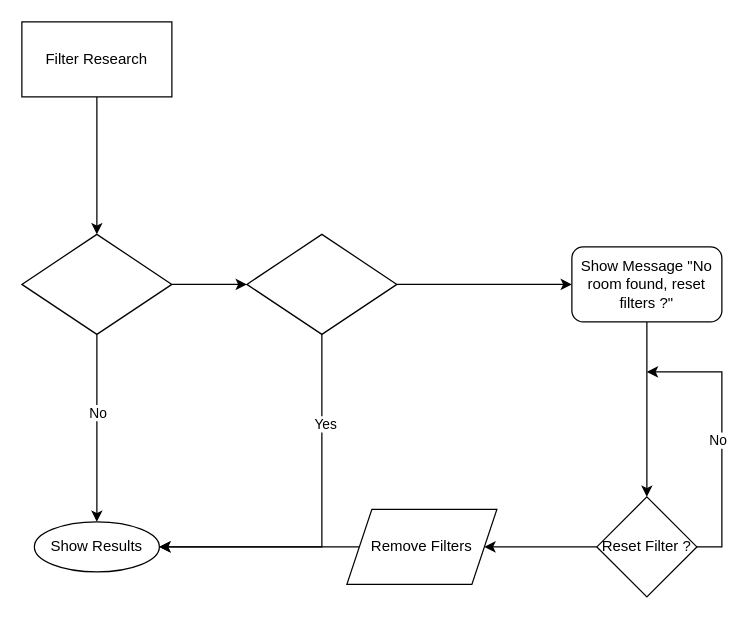
Image size: 754x619. Some labels were removed from this diagram. The box of each missing label's shape, as (x1, y1, x2, y2) in pixels:
Filter selected: (21, 233, 172, 334)
Found Room > 0: (246, 233, 397, 334)
